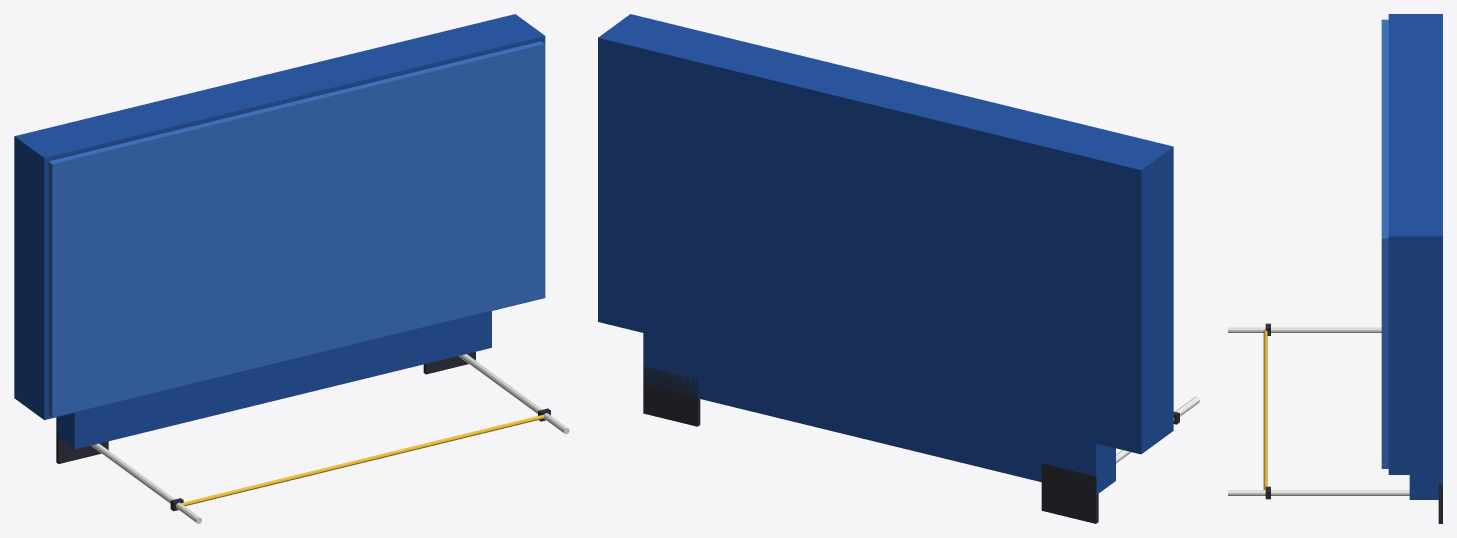
File: hauteur.glb
3 renders of one model, left to right at view 1: azimuth 30°, elevation 25°; view 2: azimuth 150°, elevation 25°; view 3: azimuth 270°, elevation 25°, orthographic. The views are drawn at different scales.
Visible parts, largest first — view 1: housse, tapis, tapis_avant, barre, poteau, poteau.001, pied; view 2: tapis, tapis_avant, pied, pied.001; view 3: tapis, housse, poteau.001, poteau, tapis_avant, barre.
Boxes of the visible parts, x1,y1,x2,y2 form: housse: [48, 41, 544, 417]; tapis: [14, 14, 545, 419]; tapis_avant: [56, 311, 491, 449]; barre: [181, 414, 544, 506]; poteau: [91, 443, 201, 523]; poteau.001: [458, 354, 569, 434]; pied: [56, 419, 108, 463]; tapis: [598, 14, 1173, 454]; tapis_avant: [643, 333, 1115, 494]; pied: [1041, 463, 1098, 523]; pied.001: [643, 366, 700, 426]; tapis: [1388, 14, 1442, 474]; housse: [1381, 19, 1388, 468]; poteau.001: [1228, 490, 1409, 495]; poteau: [1228, 327, 1381, 332]; tapis_avant: [1409, 475, 1442, 499]; barre: [1263, 329, 1267, 489].
Bounding box in the file's own units: 6 × 3.85 × 2.45.
